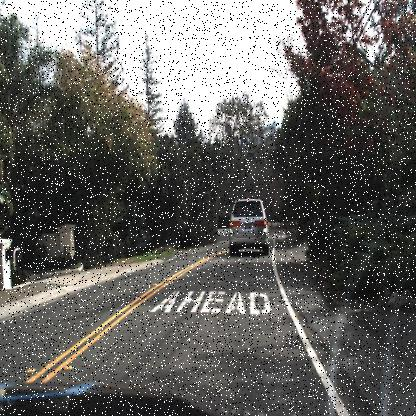car: (219, 196, 276, 259)
